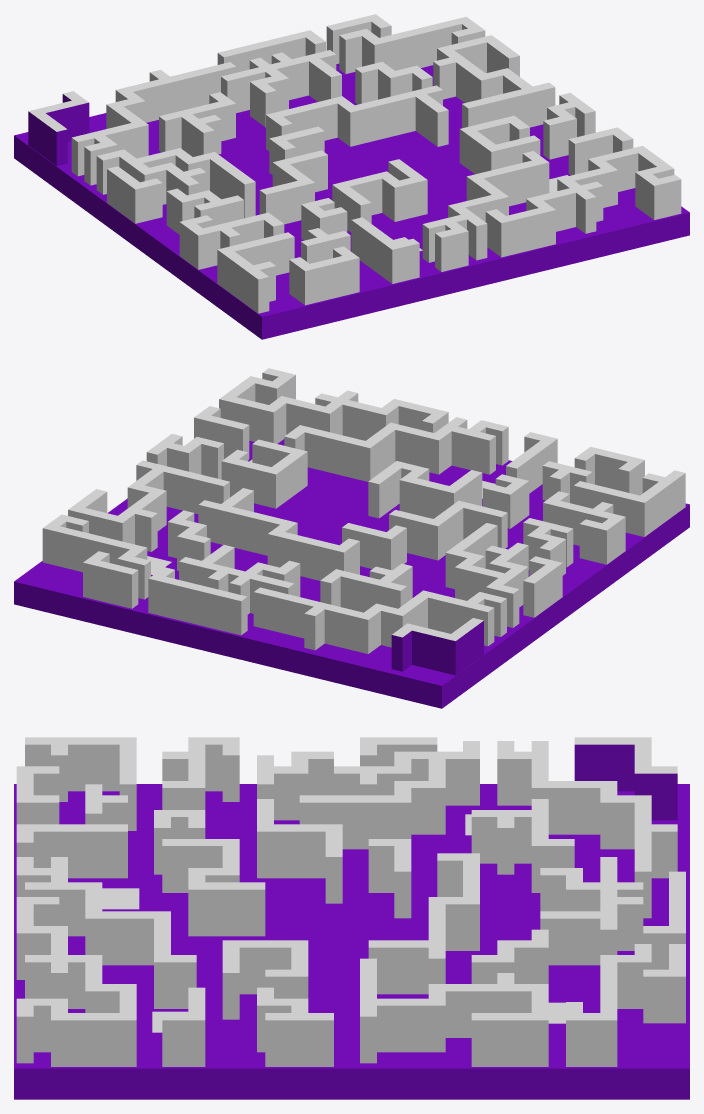
The model's file is map.glb.
3 renders of one model, top to bottom at view 1: azimuth 30°, elevation 25°; view 2: azimuth 150°, elevation 25°; view 3: azimuth 270°, elevation 25°, orthographic. The views are drawn at different scales.
Parts seen in each view (by area): view 1: ground, wall.014, wall.022, wall.002, wall.021, wall.013, wall.025, wall.008, wall.024, wall.016, wall.010, wall.003 (+16 smaller); view 2: ground, wall.002, wall.013, wall.014, wall.022, wall.021, wall.008, wall.016, wall.009, wall.018, wall.010, wall.024 (+16 smaller); view 3: ground, wall.014, wall.022, wall.008, wall.002, wall.013, wall.025, wall.021, wall.016, wall.024, wall.010, wall.007 (+17 smaller).
Boxes of the visible parts, x1=… form: ground: x1=14, y1=63, x2=689, y2=339; wall.014: x1=485, y1=145, x2=681, y2=257; wall.022: x1=433, y1=35, x2=555, y2=128; wall.002: x1=71, y1=62, x2=236, y2=185; wall.021: x1=266, y1=85, x2=448, y2=150; wall.013: x1=422, y1=151, x2=549, y2=271; wall.025: x1=221, y1=50, x2=341, y2=127; wall.008: x1=96, y1=148, x2=255, y2=218; wall.024: x1=339, y1=16, x2=485, y2=73; wall.016: x1=332, y1=159, x2=427, y2=232; wall.010: x1=217, y1=232, x2=294, y2=313; wall.003: x1=159, y1=92, x2=235, y2=156; ground: x1=14, y1=439, x2=689, y2=708; wall.002: x1=253, y1=587, x2=506, y2=653; wall.013: x1=284, y1=417, x2=508, y2=481; wall.014: x1=219, y1=368, x2=448, y2=443; wall.022: x1=68, y1=460, x2=229, y2=551; wall.021: x1=198, y1=488, x2=359, y2=580; wall.008: x1=445, y1=523, x2=528, y2=627; wall.016: x1=368, y1=461, x2=482, y2=518; wall.009: x1=148, y1=567, x2=247, y2=635; wall.018: x1=221, y1=439, x2=307, y2=508; wall.010: x1=573, y1=470, x2=685, y2=536; wall.024: x1=42, y1=514, x2=150, y2=599; ground: x1=14, y1=784, x2=689, y2=1099; wall.014: x1=16, y1=897, x2=136, y2=1066; wall.022: x1=360, y1=958, x2=548, y2=1066; wall.008: x1=299, y1=741, x2=479, y2=849; wall.002: x1=497, y1=741, x2=677, y2=918; wall.013: x1=16, y1=857, x2=196, y2=1008; wall.025: x1=540, y1=857, x2=643, y2=965; wall.021: x1=368, y1=853, x2=479, y2=994; wall.016: x1=162, y1=839, x2=265, y2=936; wall.024: x1=566, y1=944, x2=651, y2=1066; wall.010: x1=25, y1=737, x2=136, y2=830; wall.007: x1=257, y1=799, x2=342, y2=903.
Size of what is drawn, in the model's own units: 39.23 by 5.01 by 39.37.
